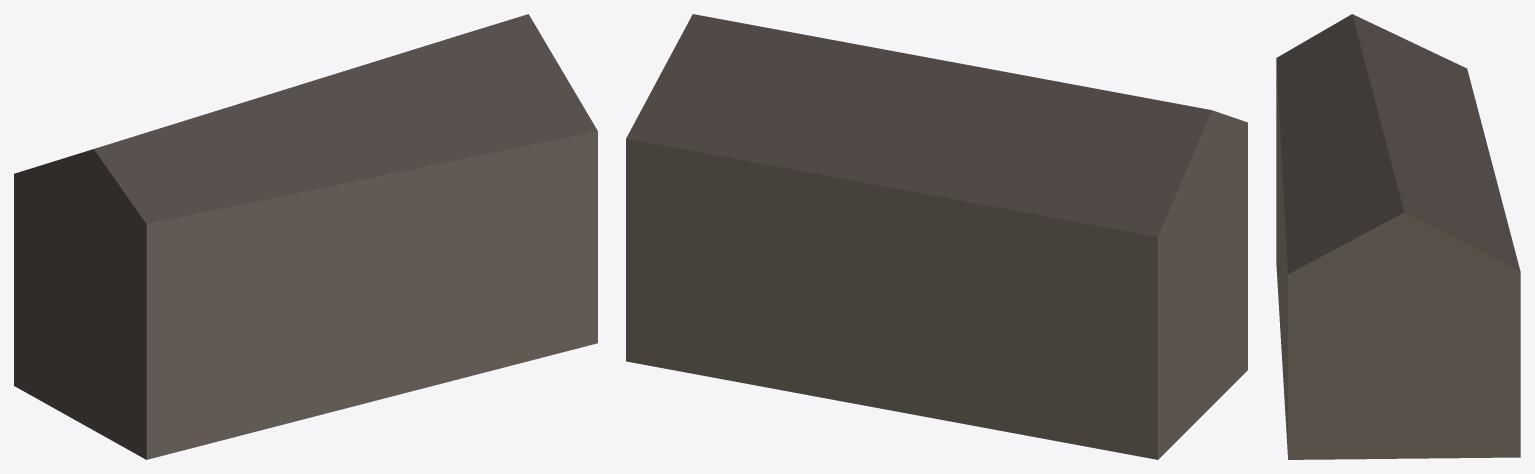
3 views of the same model, side by side, from view 1: azimuth 30°, elevation 25°; view 2: azimuth 150°, elevation 25°; view 3: azimuth 270°, elevation 25° (orthographic). The views are drawn at different scales.
Visible parts, largest first — view 1: HP-w1512914152; view 2: HP-w1512914152; view 3: HP-w1512914152.
Boxes of the visible parts, left/top/right/bottom form: HP-w1512914152: left=14, top=14, right=597, bottom=459; HP-w1512914152: left=626, top=14, right=1247, bottom=459; HP-w1512914152: left=1276, top=14, right=1520, bottom=459.
Bounding box in the file's own units: 14.25 × 7.96 × 7.15.
